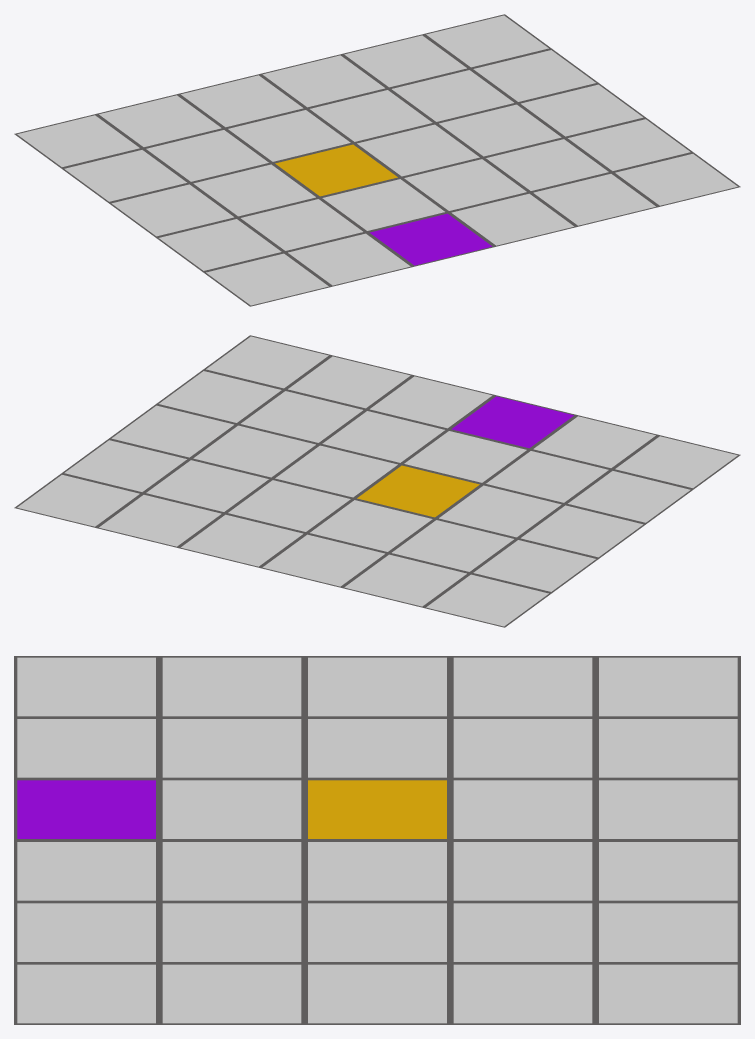
3 views of the same model, one above another, from view 1: azimuth 30°, elevation 25°; view 2: azimuth 150°, elevation 25°; view 3: azimuth 270°, elevation 25° (orthographic). The views are drawn at different scales.
Parts seen in each view (by area): view 1: Plane.001; view 2: Plane.001; view 3: Plane.001.
Boxes of the visible parts, x1,y1,x2,y2 form: Plane.001: (14, 14, 740, 306); Plane.001: (14, 335, 740, 627); Plane.001: (14, 656, 740, 1024).
Size of the model in its own units: 921 by 4.02e-05 by 767.
